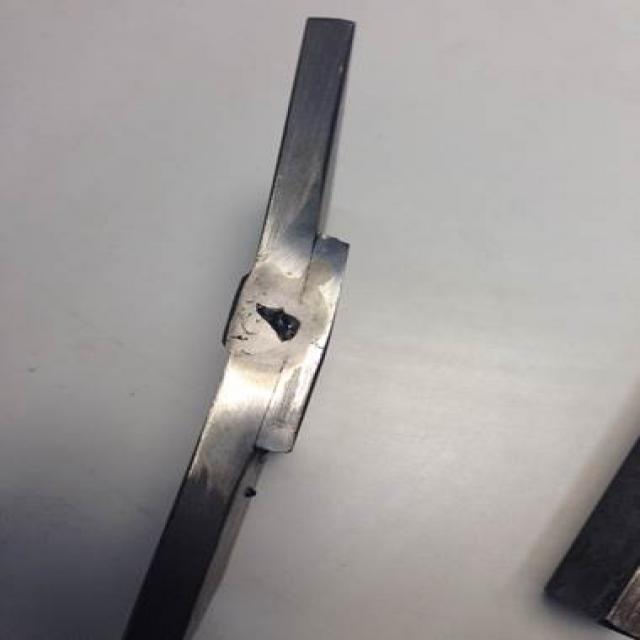Defect: (251, 298, 303, 346)
